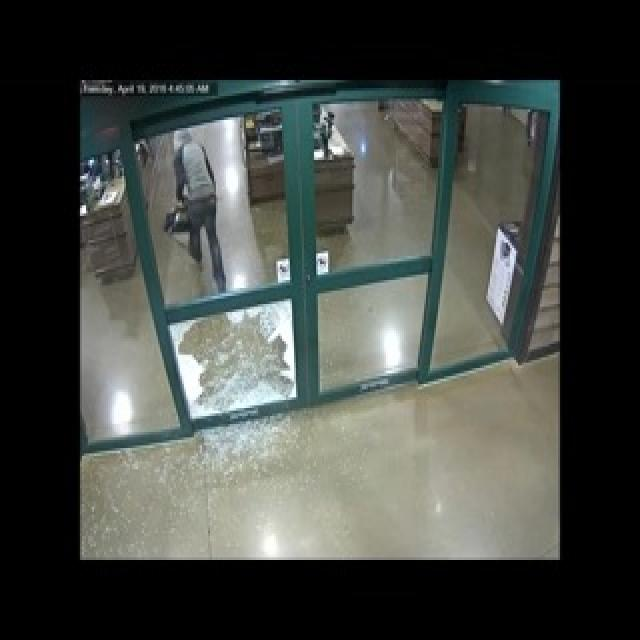thief: (162, 128, 238, 293)
